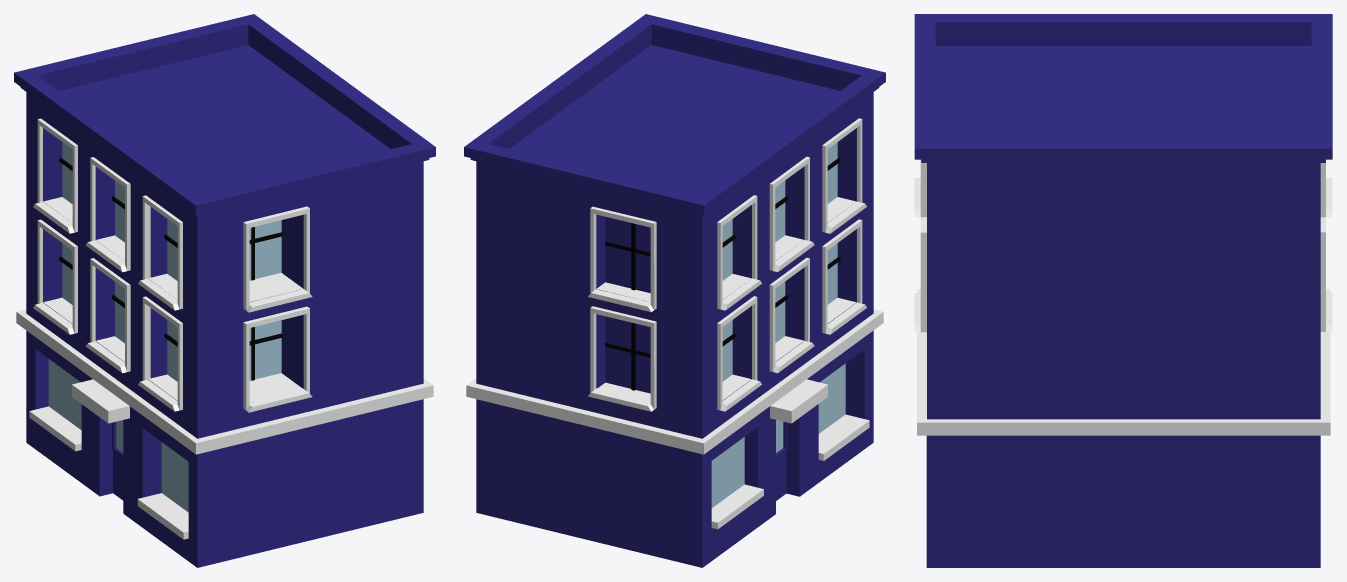
File: Haus04.fbx
3 renders of one model, left to right at view 1: azimuth 30°, elevation 25°; view 2: azimuth 150°, elevation 25°; view 3: azimuth 270°, elevation 25°, orthographic. The views are drawn at different scales.
Visible parts, largest first — view 1: Cube; view 2: Cube; view 3: Cube.
Boxes of the visible parts, x1,y1,x2,y2 form: Cube: [14, 14, 435, 567]; Cube: [464, 14, 885, 567]; Cube: [914, 14, 1332, 567].
Size of the model in its own units: 384 by 529 by 475.
